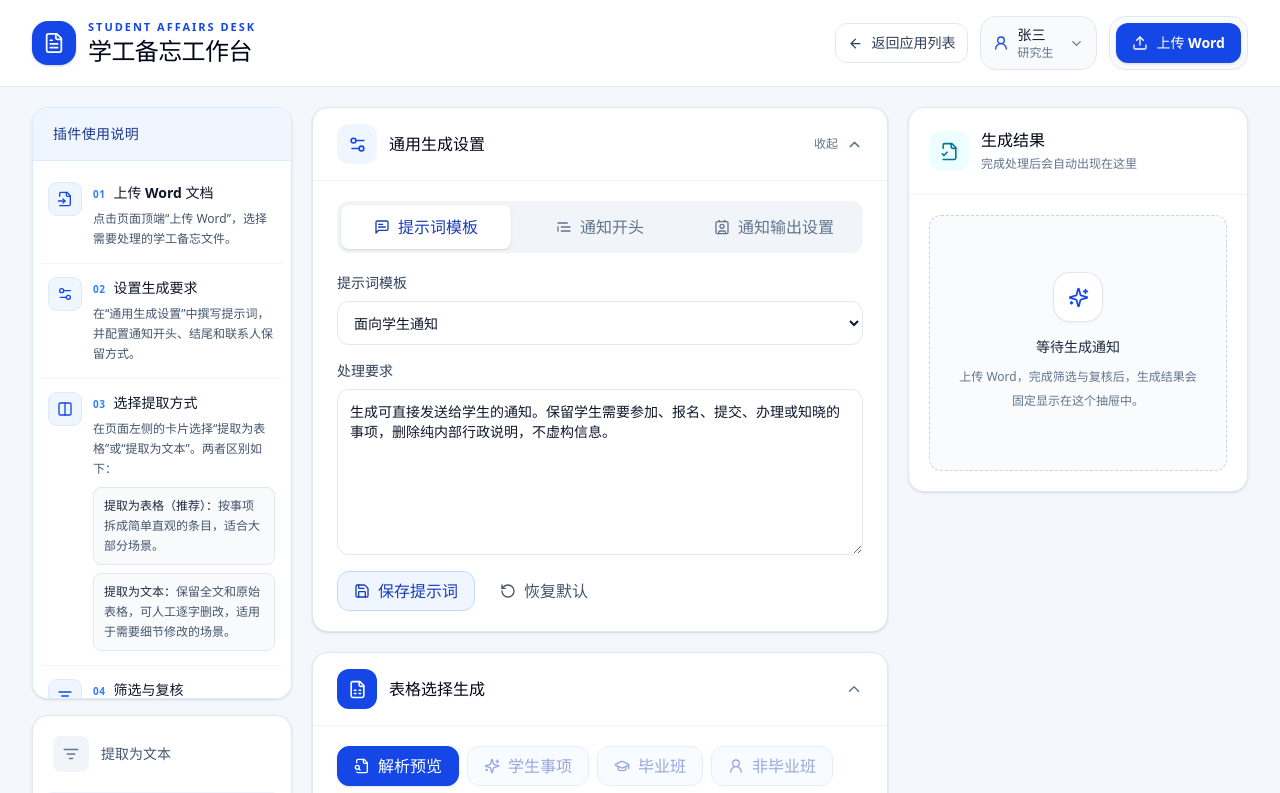
Test case: App workspace › enables AI generation when the health response reports AI configured
The image size is (1280, 793).
Click the button "提取为文本" at [162, 754], box x1=41 y1=724 x2=283 y2=784
(page scrolled)
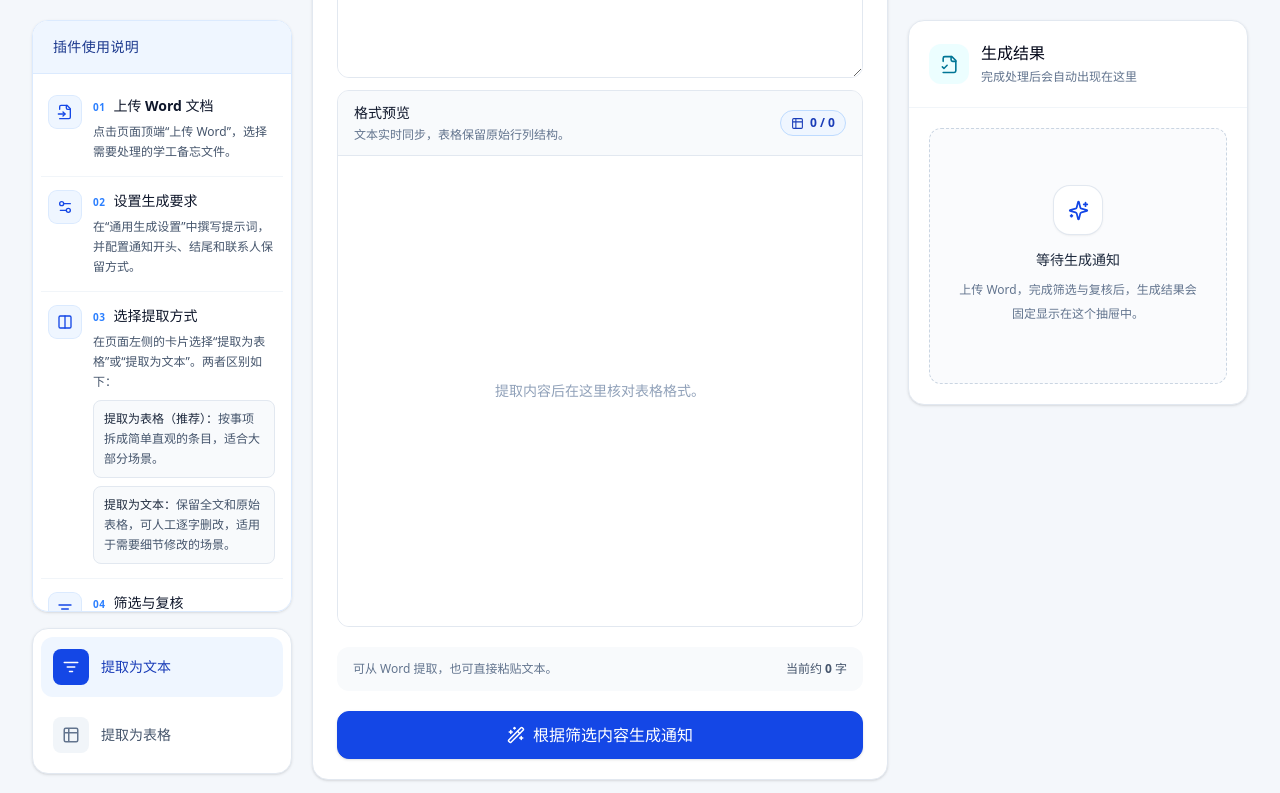
Expected: the button "根据筛选内容生成通知" is enabled, x1=337 y1=711 x2=863 y2=759
